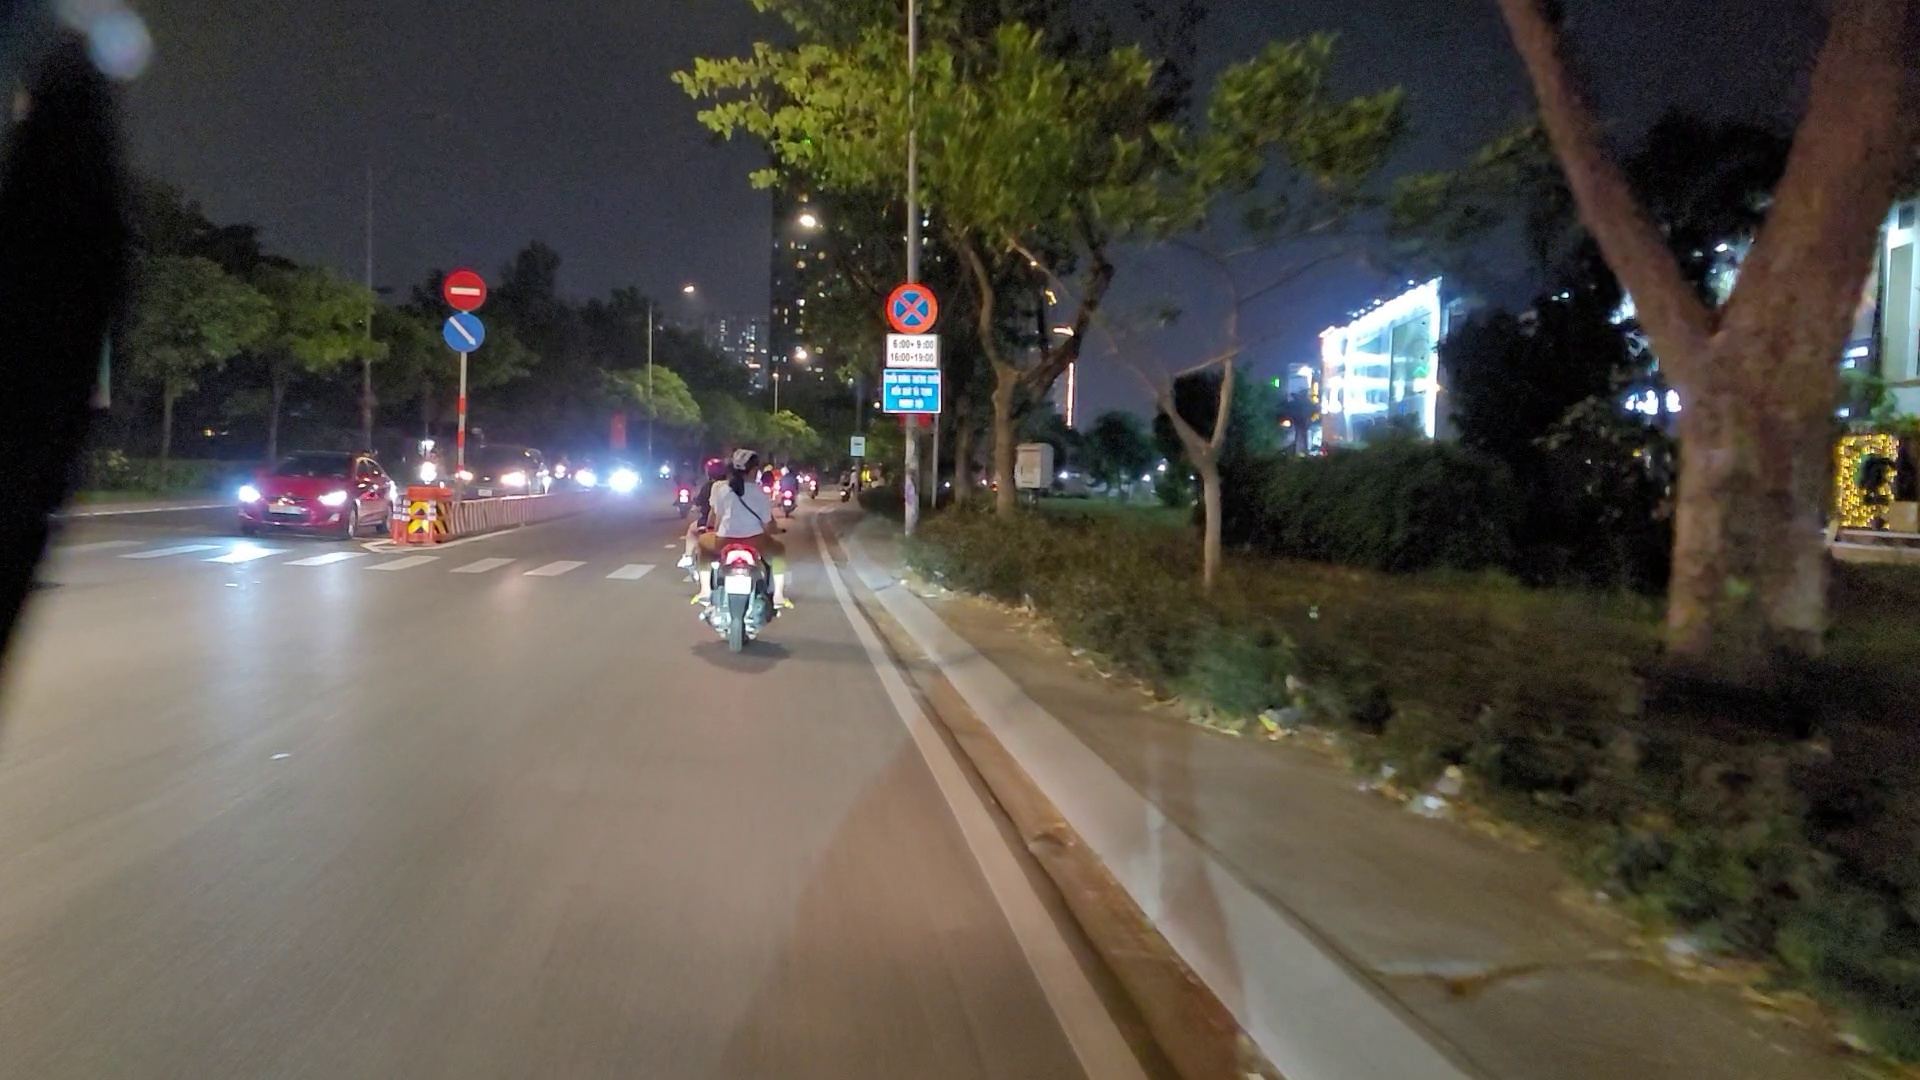Bien khac: (884, 280, 938, 331)
Cam di nguoc chieu: (442, 269, 488, 311)
Huong di phai re phai: (438, 311, 488, 352)
